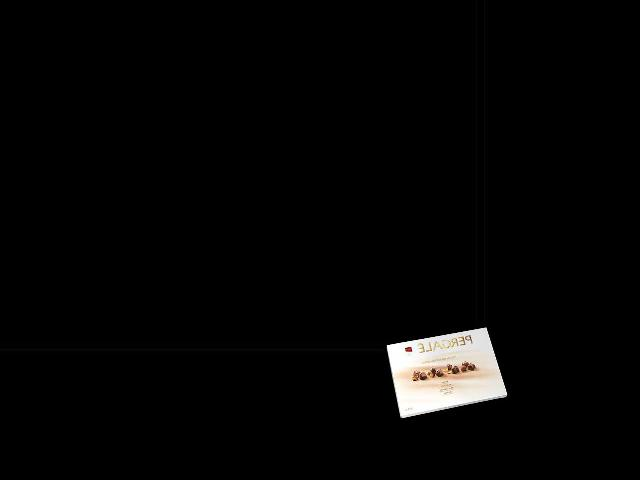chocolate: (391, 328, 501, 422)
